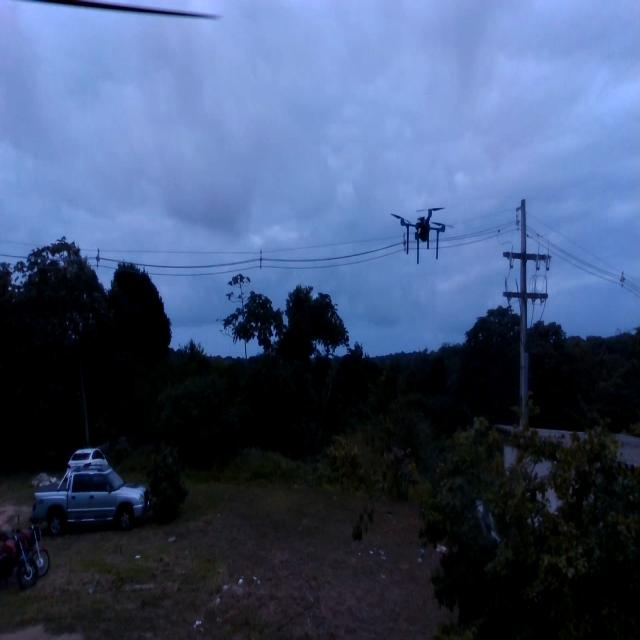-uav-: (387, 188, 459, 274)
